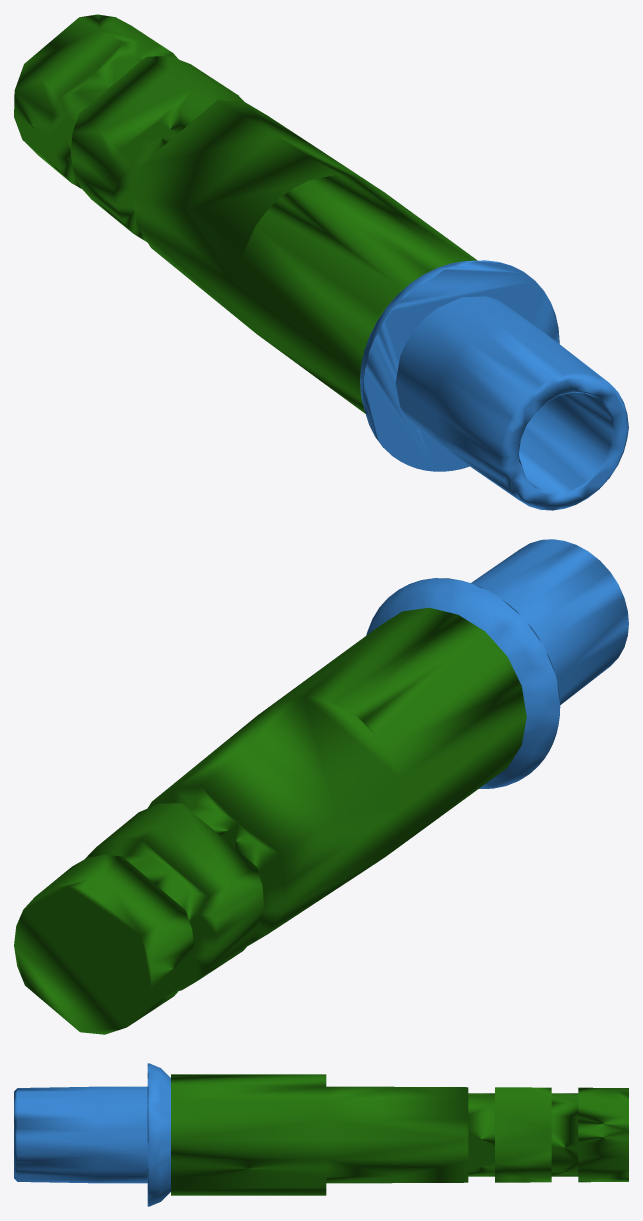
Rendered from 3.5_impl_Parallel.obj.
3 renders of one model, top to bottom at view 1: azimuth 30°, elevation 25°; view 2: azimuth 150°, elevation 25°; view 3: azimuth 270°, elevation 25°, orthographic. The views are drawn at different scales.
Size of the model in its own units: 4.3 by 4.3 by 18.42.
